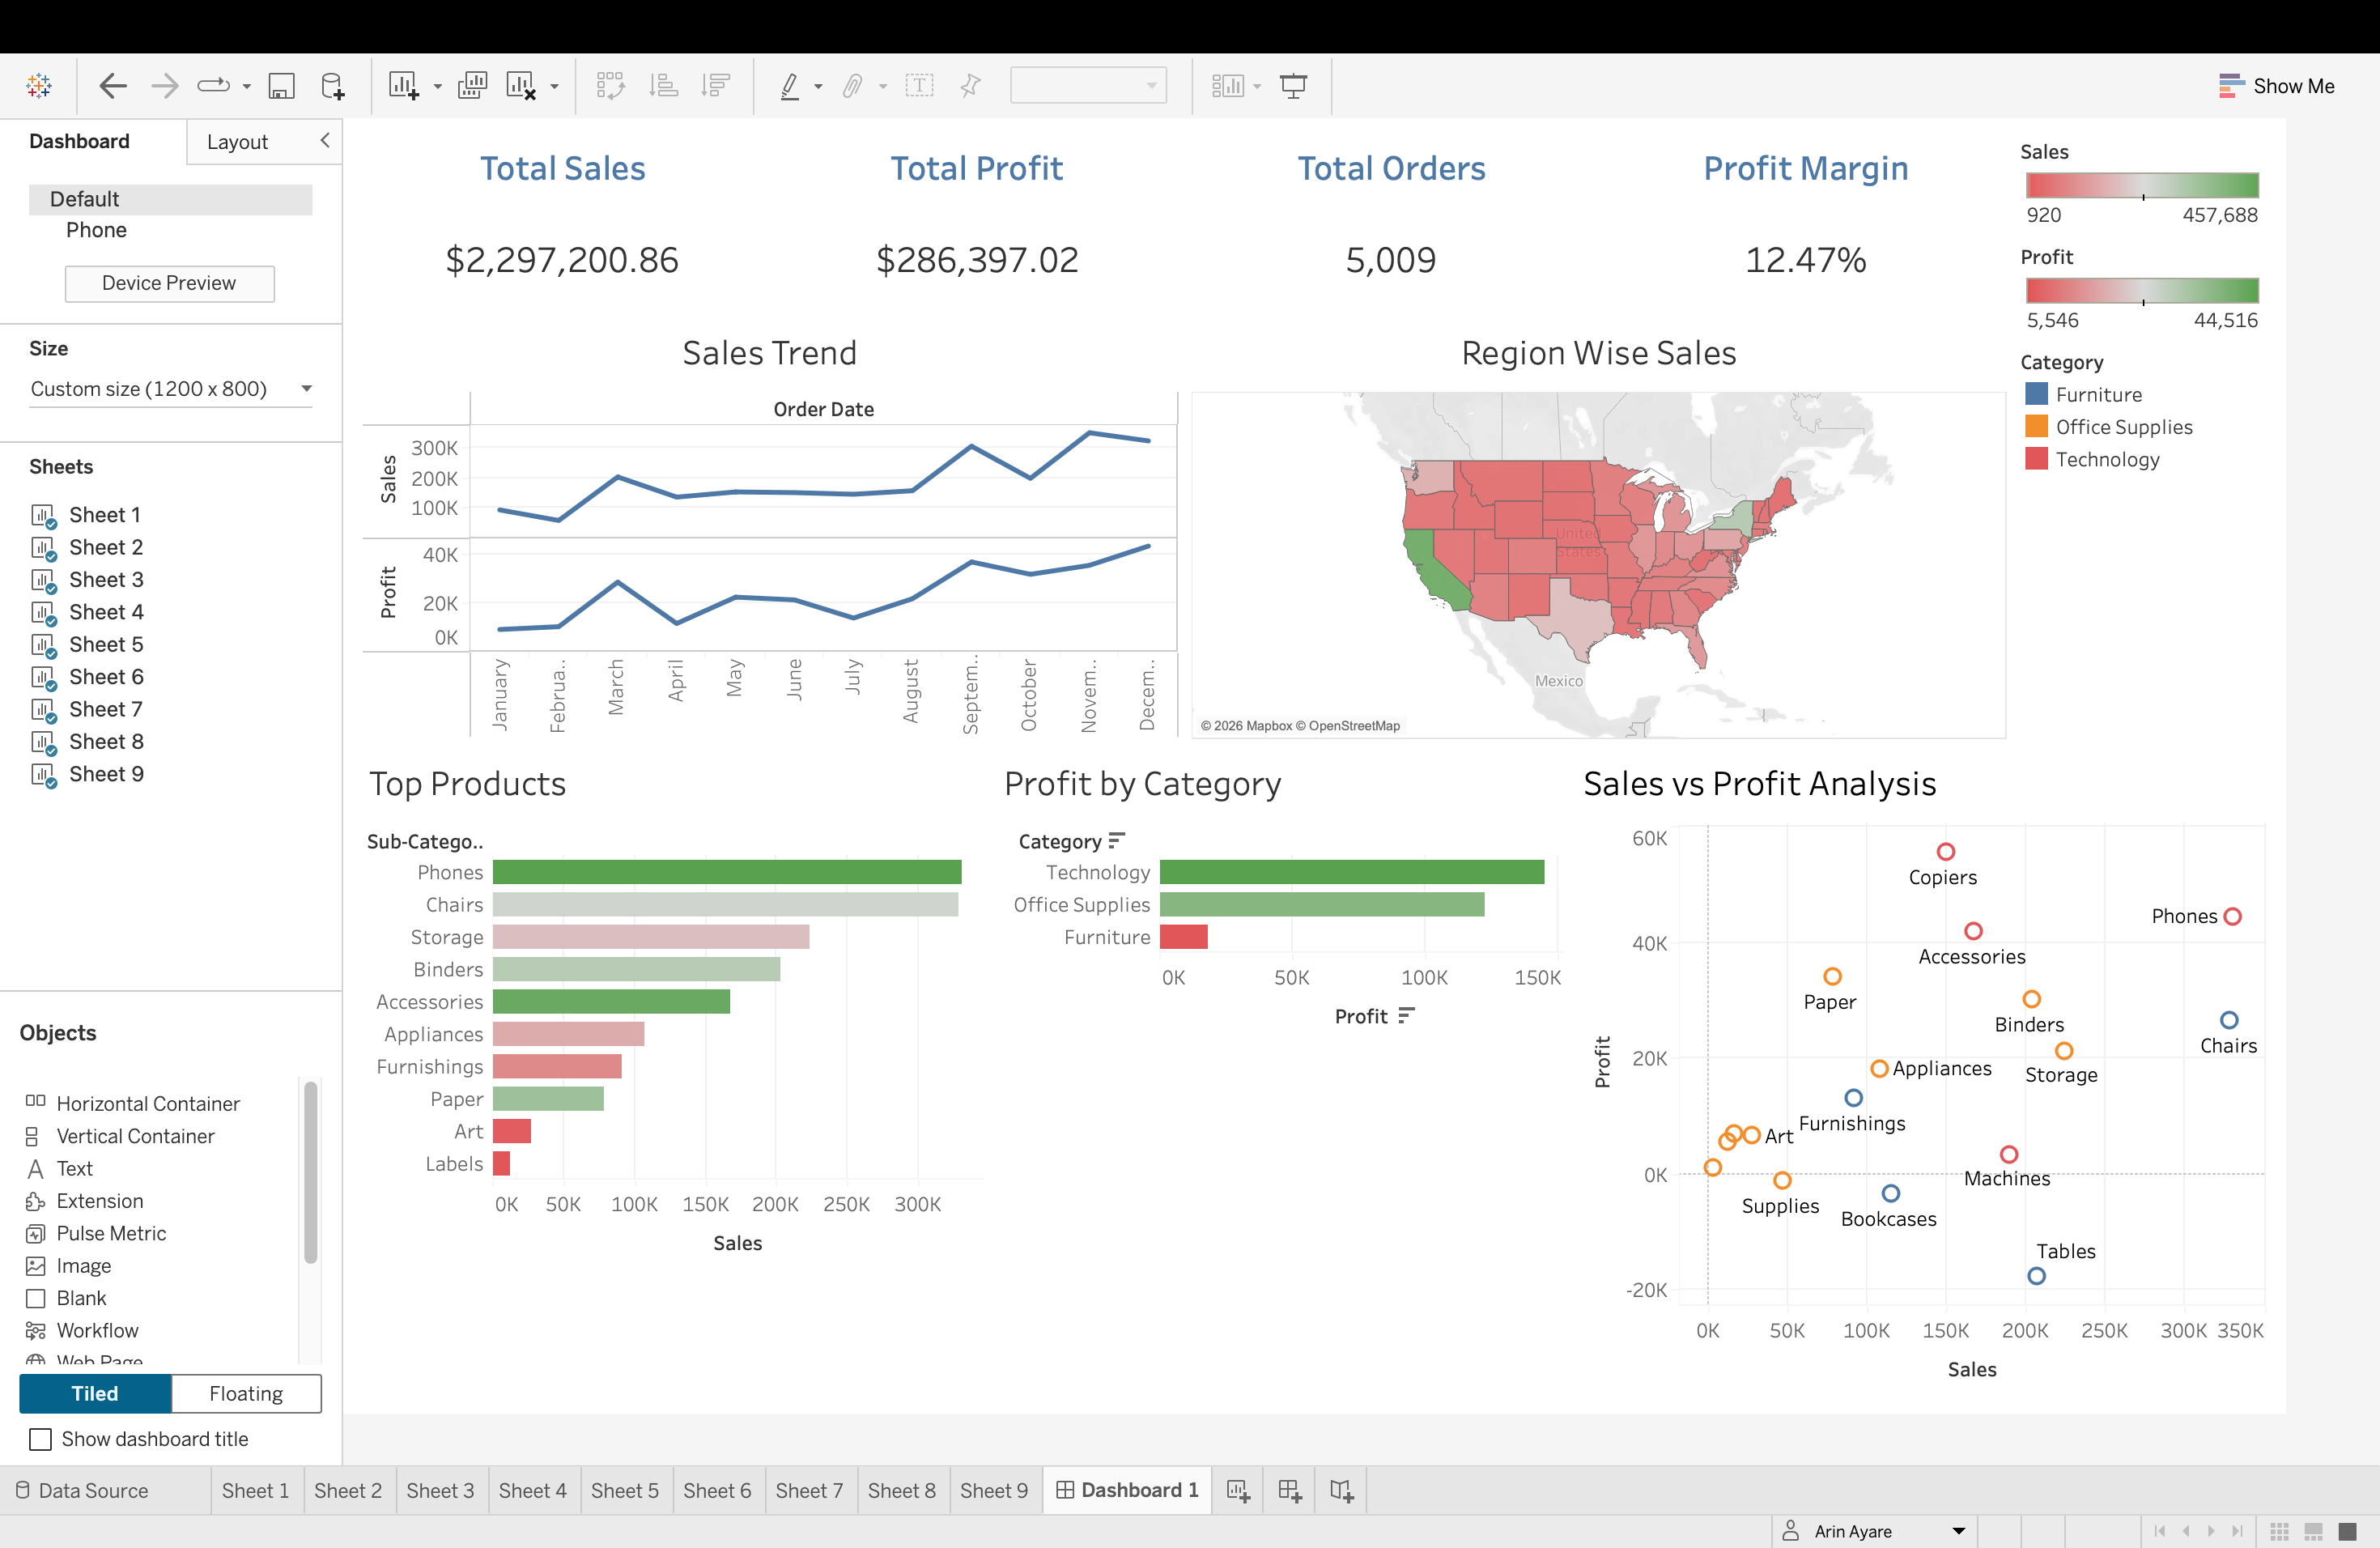

The dashboard page shown, as its layout file describes it:
{"tool":"tableau","page":{"name":"Dashboard 1","canvas":[1200,800],"ordinal":0},"visuals":[{"type":"worksheet","title":"Sheet 1","mark":"Automatic","box":[8,8,256,114]},{"type":"worksheet","title":"Sheet 2","mark":"Automatic","box":[264,8,256,114]},{"type":"worksheet","title":"Sheet 3","mark":"Automatic","box":[520,8,256,114]},{"type":"worksheet","title":"Sheet 4","mark":"Automatic","box":[776,8,256,114]},{"type":"legend","title":"Sheet 7","param":"[federated.0l3u12e02u5svb13li8191r35ujv].[sum:Sales:qk]","box":[1032,8,160,65]},{"type":"legend","title":"Sheet 6","param":"[federated.0l3u12e02u5svb13li8191r35ujv].[sum:Profit:qk]","box":[1032,73,160,65]},{"type":"worksheet","title":"Sheet 5","mark":"Automatic","rows":["Sales","Profit"],"cols":["Order Date"],"box":[8,121.8,512,266.2]},{"type":"worksheet","title":"Sheet 7","mark":"Multipolygon","box":[520,121.8,512,266.2]},{"type":"legend","title":"Sheet 9","param":"[federated.0l3u12e02u5svb13li8191r35ujv].[none:Category:nk]","box":[1032,138,160,86]},{"type":"worksheet","title":"Sheet 6","mark":"Automatic","rows":["Sub-Category"],"cols":["Sales"],"box":[8,388,392,404]},{"type":"worksheet","title":"Sheet 8","mark":"Automatic","rows":["Category"],"cols":["Profit"],"box":[400,388,358,404]},{"type":"worksheet","title":"Sheet 9","mark":"Automatic","rows":["Profit"],"cols":["Sales"],"box":[758,388,434,404]}]}

Visuals, with their boxes on the page's 1200x800 design canvas (x1, y1, x2, y2). These are canvas units, not pixel positions in the 2380x1548 screenshot, which may show the page scaled, cropped or inside an application window:
"Sheet 1" worksheet: 8/8/264/122
"Sheet 2" worksheet: 264/8/520/122
"Sheet 3" worksheet: 520/8/776/122
"Sheet 4" worksheet: 776/8/1032/122
"Sheet 7" legend: 1032/8/1192/73
"Sheet 6" legend: 1032/73/1192/138
"Sheet 5" worksheet: 8/122/520/388
"Sheet 7" worksheet (Multipolygon marks): 520/122/1032/388
"Sheet 9" legend: 1032/138/1192/224
"Sheet 6" worksheet: 8/388/400/792
"Sheet 8" worksheet: 400/388/758/792
"Sheet 9" worksheet: 758/388/1192/792
